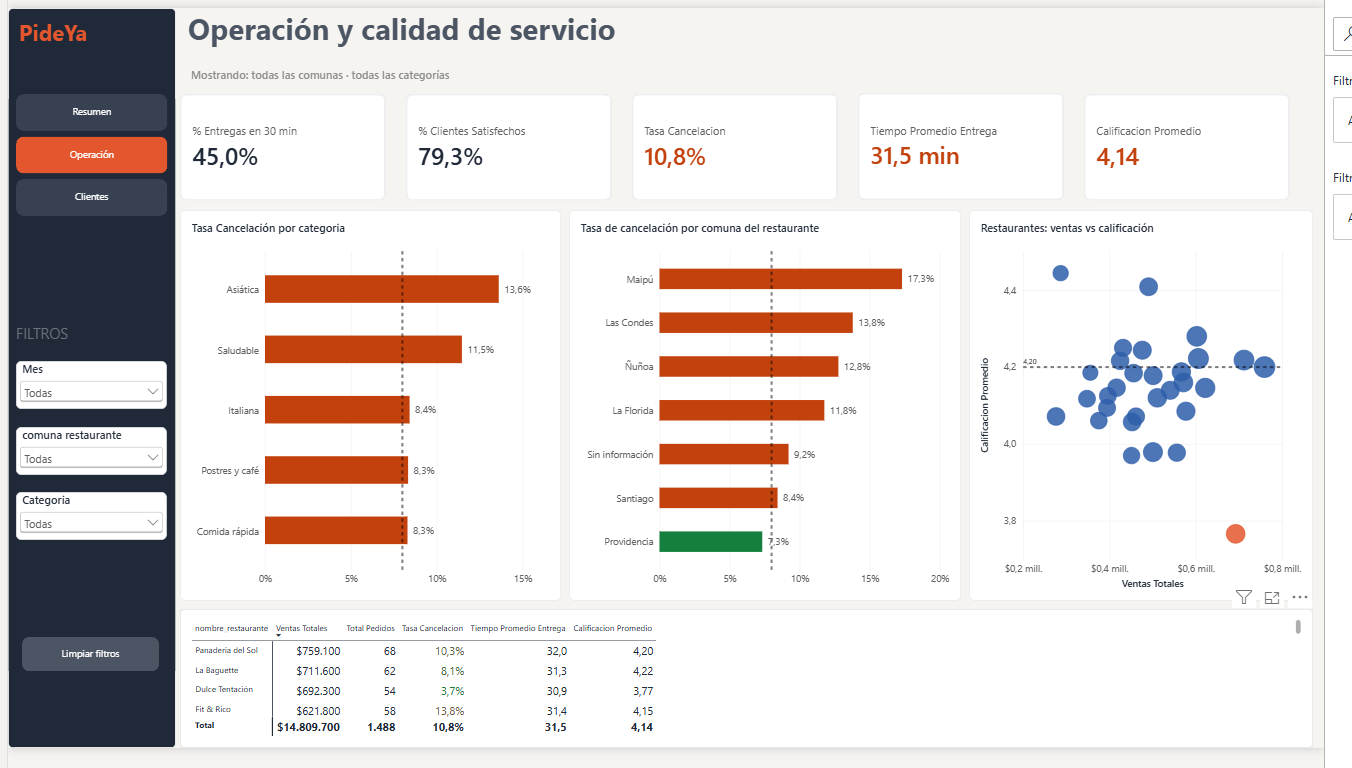

Layout of this report page (visuals, bound fields, positions):
{"tool":"powerbi","page":{"name":"Operación","canvas":[1920,1080],"ordinal":1},"visuals":[{"type":"shape","box":[0,0,245.1,1079.6],"z":0},{"type":"cardVisual","fields":{"Data":["_Medidas.% Entregas en 30 min"]},"box":[250.9,125.5,300,155],"z":1000},{"type":"cardVisual","fields":{"Data":["_Medidas.% Clientes Satisfechos"]},"box":[580.7,125.5,300,155],"z":2000},{"type":"cardVisual","fields":{"Data":["_Medidas.Tasa Cancelacion"]},"box":[910.4,125.5,300,155],"z":3000},{"type":"cardVisual","fields":{"Data":["_Medidas.Tiempo Promedio Entrega"]},"box":[1240.1,124,300,156],"z":4000},{"type":"cardVisual","fields":{"Data":["_Medidas.Calificacion Promedio"]},"box":[1569.8,125.5,300,155],"z":5000},{"type":"slicer","fields":{"Values":["Calendario.Mes Año"]},"box":[11.7,515,220,70],"z":6000},{"type":"slicer","fields":{"Values":["Restaurantes.comuna"]},"box":[11.7,610.8,220,70],"z":7000},{"type":"slicer","fields":{"Values":["Restaurantes.categoria"]},"box":[11.7,706.6,220,70],"z":8000},{"type":"actionButton","box":[20.4,917.7,200,50],"z":9000},{"type":"textbox","box":[250.9,0,1653,62.7],"z":10000},{"type":"cardVisual","fields":{"Data":["_Medidas.Titulo Filtros"]},"box":[250.9,80.2,1653,33.6],"z":11000},{"type":"textbox","box":[16,13.1,213,49.6],"z":12000},{"type":"pageNavigator","box":[11.7,125.5,221.8,179.5],"z":13000},{"type":"textbox","box":[11.7,459.6,220.3,55.4],"z":14000},{"type":"clusteredBarChart","title":"Tasa Cancelación por categoria","fields":{"Category":["Restaurantes.categoria"],"Y":["_Medidas.Tasa Cancelacion"]},"box":[250.9,294.7,555.9,570.5],"z":15000},{"type":"clusteredBarChart","title":"Tasa de cancelación por comuna del restaurante","fields":{"Category":["Restaurantes.comuna"],"Y":["_Medidas.Tasa Cancelacion"]},"box":[818.5,294.7,571.9,570.5],"z":16000},{"type":"scatterChart","title":"Restaurantes: ventas vs calificación","fields":{"Category":["Restaurantes.nombre_restaurante"],"Size":["_Medidas.Total Pedidos"],"X":["_Medidas.Ventas Totales"],"Y":["_Medidas.Calificacion Promedio"]},"box":[1402.1,294.7,501.9,570.5],"z":17000},{"type":"pivotTable","fields":{"Rows":["Restaurantes.nombre_restaurante"],"Values":["_Medidas.Ventas Totales","_Medidas.Total Pedidos","_Medidas.Tasa Cancelacion","_Medidas.Tiempo Promedio Entrega","_Medidas.Calificacion Promedio"]},"box":[250.9,876.8,1653,202.8],"z":18000}]}

Visuals, with their boxes on the page's 1920x1080 design canvas (x1, y1, x2, y2). These are canvas units, not pixel positions in the 1352x768 screenshot, which may show the page scaled, cropped or inside an application window:
shape: 0:0:245:1080
cardVisual - _Medidas.% Entregas en 30 min: 251:126:551:280
cardVisual - _Medidas.% Clientes Satisfechos: 581:126:881:280
cardVisual - _Medidas.Tasa Cancelacion: 910:126:1210:280
cardVisual - _Medidas.Tiempo Promedio Entrega: 1240:124:1540:280
cardVisual - _Medidas.Calificacion Promedio: 1570:126:1870:280
slicer - Calendario.Mes Año: 12:515:232:585
slicer - Restaurantes.comuna: 12:611:232:681
slicer - Restaurantes.categoria: 12:707:232:777
actionButton: 20:918:220:968
textbox: 251:0:1904:63
cardVisual - _Medidas.Titulo Filtros: 251:80:1904:114
textbox: 16:13:229:63
pageNavigator: 12:126:234:305
textbox: 12:460:232:515
"Tasa Cancelación por categoria" clusteredBarChart: 251:295:807:865
"Tasa de cancelación por comuna del restaurante" clusteredBarChart: 818:295:1390:865
"Restaurantes: ventas vs calificación" scatterChart: 1402:295:1904:865
pivotTable - Restaurantes.nombre_restaurante x _Medidas.Ventas Totales: 251:877:1904:1080
